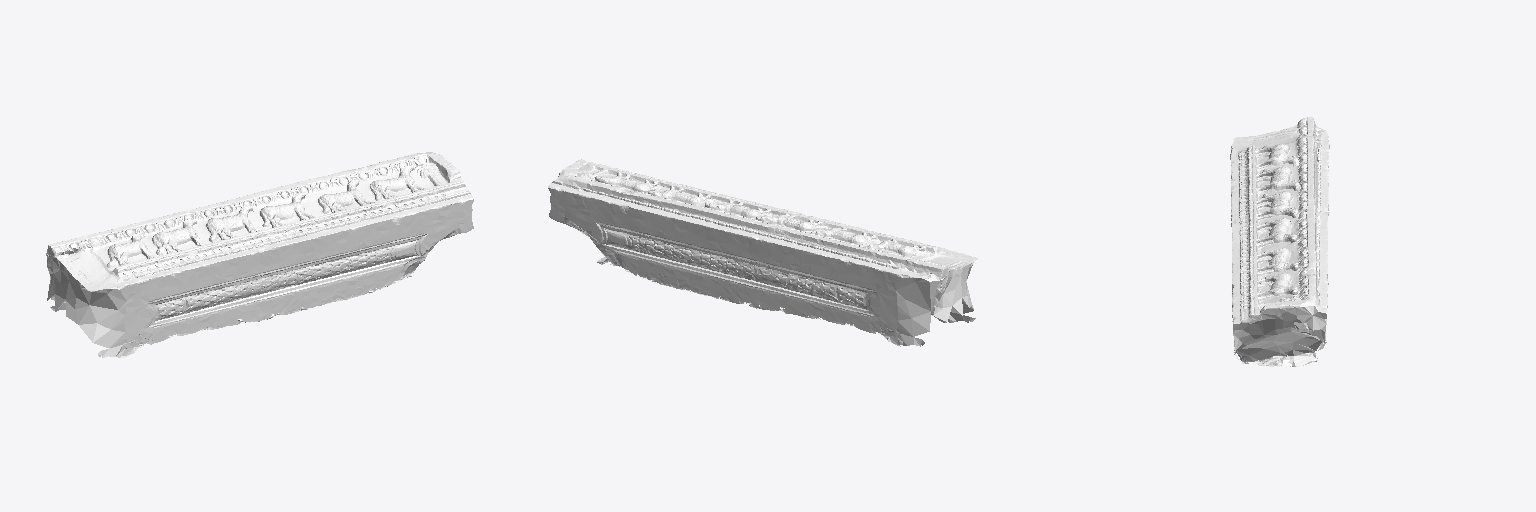
Rendered from laemmerfries_03.obj.
3 renders of one model, left to right at view 1: azimuth 30°, elevation 25°; view 2: azimuth 150°, elevation 25°; view 3: azimuth 270°, elevation 25°, orthographic.
Parts seen in each view (by area): view 1: lowpoly_04.001; view 2: lowpoly_04.001; view 3: lowpoly_04.001.
Boxes of the visible parts, x1,y1,x2,y2 form: lowpoly_04.001: [46, 152, 474, 357]; lowpoly_04.001: [548, 159, 977, 346]; lowpoly_04.001: [1230, 117, 1329, 366].
Bounding box in the file's own units: 35.23 × 7.93 × 7.7.